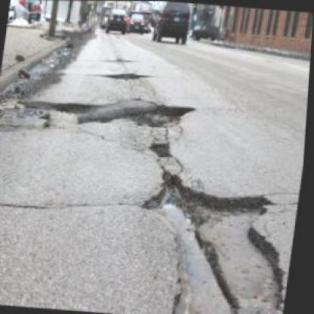Hueco: (129, 167, 305, 313), (136, 100, 200, 132), (25, 95, 100, 116), (149, 139, 178, 159), (107, 68, 151, 80)
